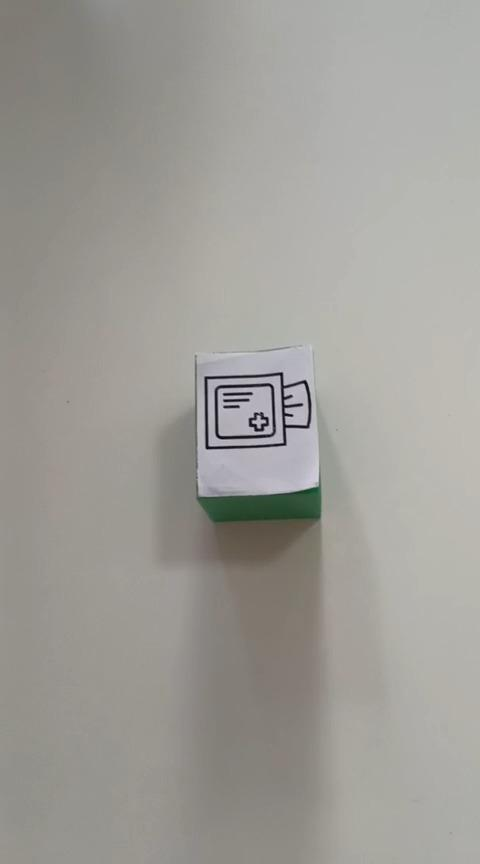Gauze: (193, 343, 322, 522)
